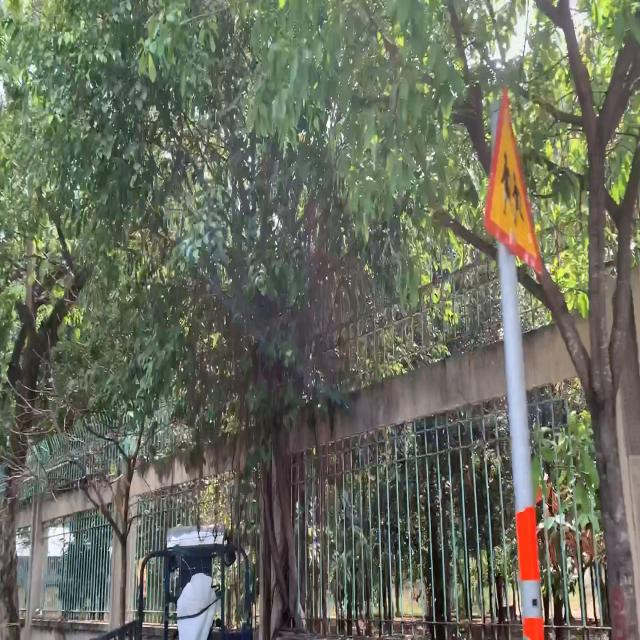Nguy hiem: (482, 74, 544, 289)
